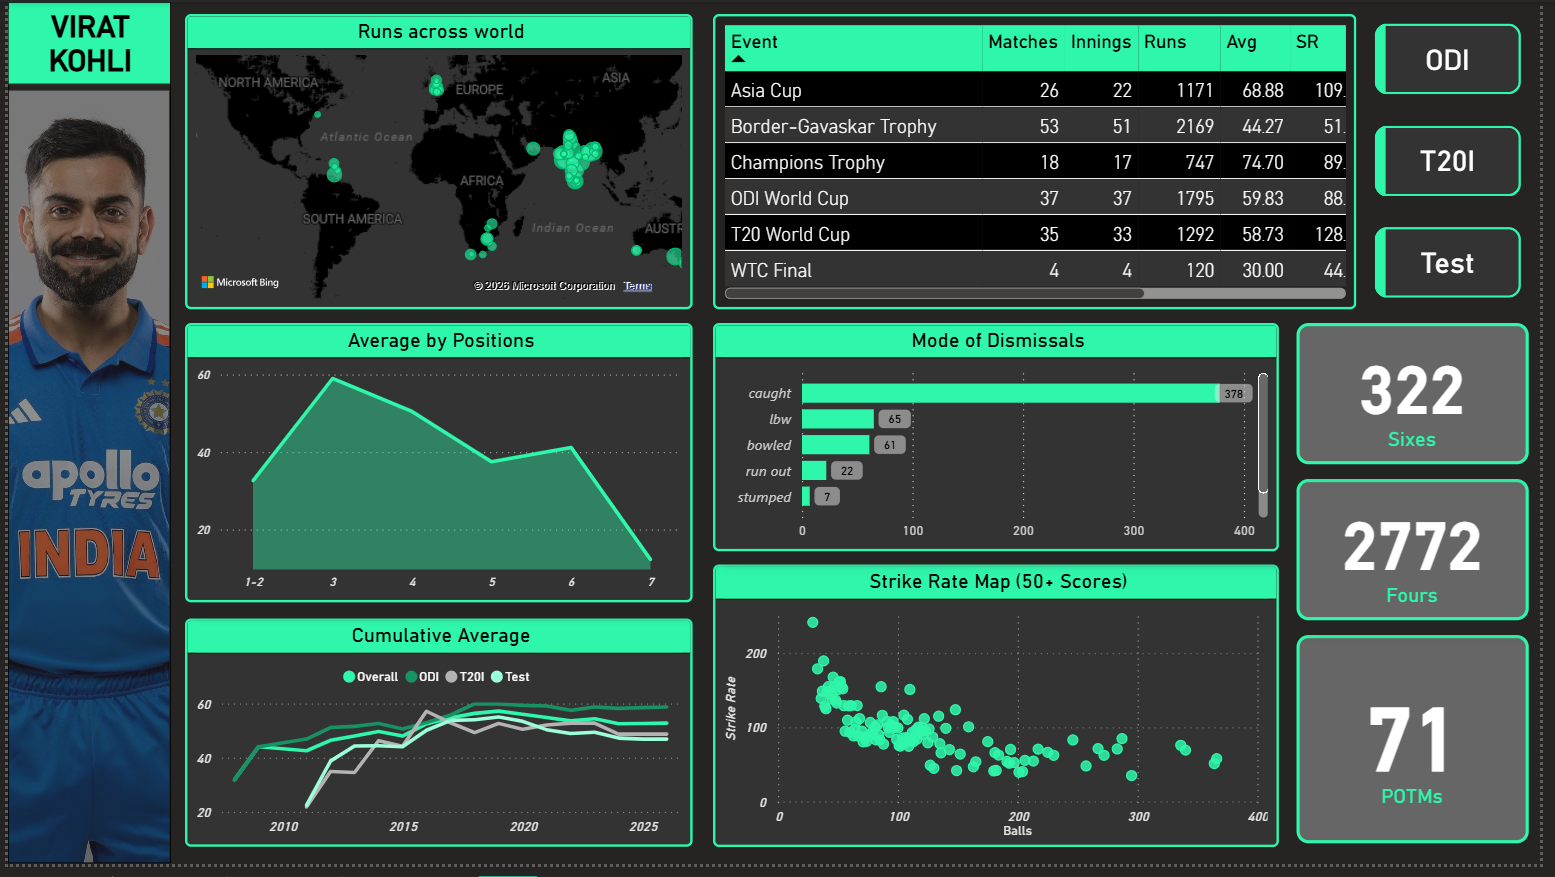

The dashboard page shown, as its layout file describes it:
{"tool":"powerbi","page":{"name":"Page 2","canvas":[1280,720],"ordinal":1},"visuals":[{"type":"image","title":"VIRAT KOHLI","box":[0,0,136.3,719.2],"z":0},{"type":"tableEx","title":"Performance in Events","fields":{"Values":["All.Event","All.Int. Match","All.Int. Inns","Sum(All.Runs)","All.Average","All.Strike Rate","All.100s","All.50s","Sum(All.4s)","Sum(All.6s)","Max(All.Runs)"]},"box":[589,10.6,537.5,246.8],"z":1000},{"type":"lineChart","title":"Cumulative Average","fields":{"Category":["All.Date.Variation.Date Hierarchy.Year"],"Y":["All.c_avg","All.c_avgodi","All.c_avgt20i","All.c_avgtest"]},"box":[147.3,514.8,424,190.8],"z":2000},{"type":"scatterChart","title":"Strike Rate Map (50+ Scores)","fields":{"Y":["All.Strike Rate"],"X":["All.Balls"]},"box":[589.4,469.4,472.4,236.2],"z":3000},{"type":"clusteredBarChart","title":"Mode of Dismissals","fields":{"Y":["CountNonNull(All.Int. Inns)"],"Category":["All.Dismissal"]},"box":[589.4,268,472.4,190.8],"z":4000},{"type":"map","title":"Runs across world","fields":{"Category":["All.Ground"],"Size":["Sum(All.Runs)1"]},"box":[147.3,10.6,424,246.8],"z":5000},{"type":"areaChart","title":"Average by Positions","fields":{"Category":["All.Pos(2)"],"Y":["All.Average"]},"box":[147.3,268,424,233.2],"z":6000},{"type":"advancedSlicerVisual","fields":{"Values":["All.Format"]},"box":[1126.6,10.6,152.9,246.8],"z":7000},{"type":"card","title":"POTM","fields":{"Values":["CountNonNull(All.POTM)"]},"box":[1076.6,528.5,193.8,174.1],"z":8000},{"type":"card","title":"POTM","fields":{"Values":["Sum(All.4s)"]},"box":[1076.6,398.7,193.8,118.1],"z":9000},{"type":"card","title":"POTM","fields":{"Values":["Sum(All.6s)"]},"box":[1076.6,268.5,193.8,118.1],"z":10000}]}

Visuals, with their boxes in screenshot pixels (x1, y1, x2, y2), scaled from the page's 1280x720 canvas onto the 1555x877 screenshot:
"VIRAT KOHLI" image: <box>0,0,166,876</box>
"Performance in Events" tableEx: <box>716,13,1369,314</box>
"Cumulative Average" lineChart: <box>179,627,694,859</box>
"Strike Rate Map (50+ Scores)" scatterChart: <box>716,572,1290,859</box>
"Mode of Dismissals" clusteredBarChart: <box>716,326,1290,559</box>
"Runs across world" map: <box>179,13,694,314</box>
"Average by Positions" areaChart: <box>179,326,694,610</box>
advancedSlicerVisual - All.Format: <box>1369,13,1554,314</box>
"POTM" card: <box>1308,644,1543,856</box>
"POTM" card: <box>1308,486,1543,629</box>
"POTM" card: <box>1308,327,1543,471</box>
